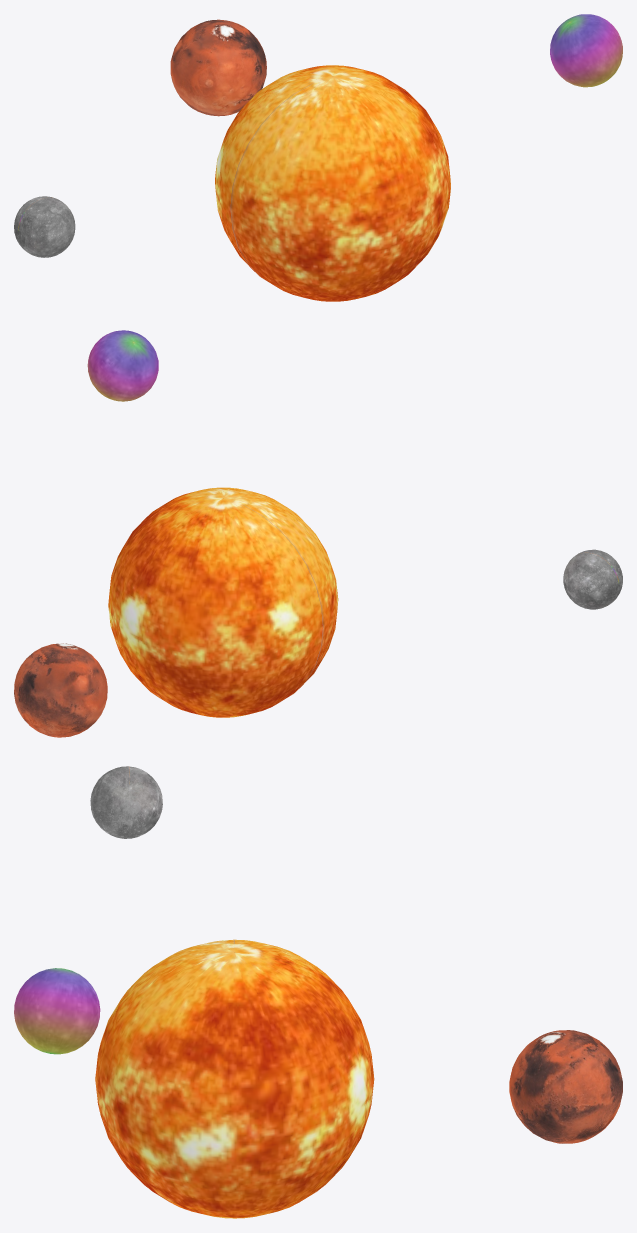
The model's file is planets.glb.
The picture shows the model from 3 angles, top to bottom: view 1: azimuth 30°, elevation 25°; view 2: azimuth 150°, elevation 25°; view 3: azimuth 270°, elevation 25°; orthographic projection. The views are drawn at different scales.
Parts seen in each view (by area): view 1: Sphere, Sphere.002, Sphere.003, Sphere.001; view 2: Sphere, Sphere.002, Sphere.003, Sphere.001; view 3: Sphere, Sphere.002, Sphere.003, Sphere.001.
Part boxes in pixels (x1,y1,x2,y2): Sphere: (215, 65, 450, 301); Sphere.002: (170, 19, 266, 116); Sphere.003: (550, 14, 622, 87); Sphere.001: (14, 196, 75, 257); Sphere: (108, 487, 338, 717); Sphere.002: (14, 643, 107, 737); Sphere.003: (87, 330, 158, 401); Sphere.001: (563, 549, 622, 609); Sphere: (95, 939, 374, 1218); Sphere.002: (509, 1030, 622, 1143); Sphere.003: (14, 968, 100, 1054); Sphere.001: (90, 766, 162, 838).
Size of the model in its own units: 70.71 by 33.75 by 55.46.
1 material, 1 textured.
